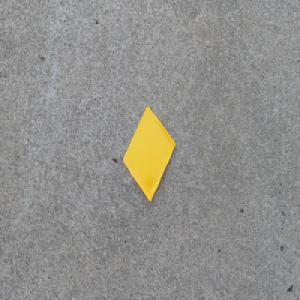PlasticPart: (122, 105, 175, 203)
